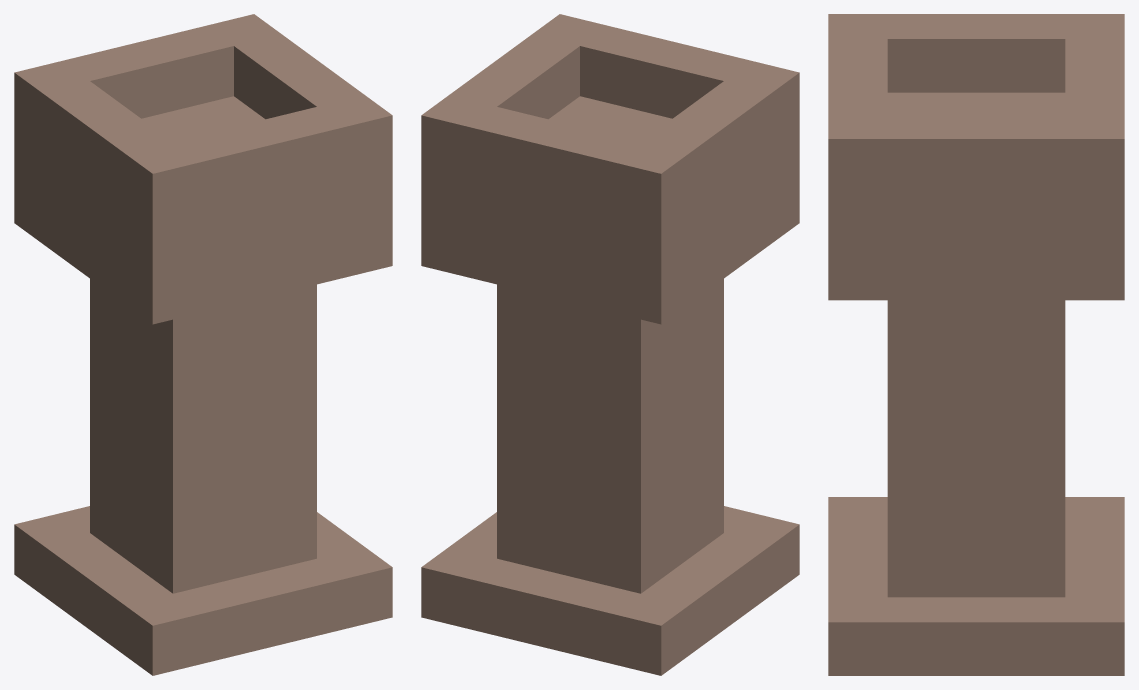
The model's file is ground_torch_a_a_unlit.obj.
3 views of the same model, side by side, from view 1: azimuth 30°, elevation 25°; view 2: azimuth 150°, elevation 25°; view 3: azimuth 270°, elevation 25° (orthographic). The views are drawn at different scales.
Size of the model in its own units: 0.5 by 1 by 0.5.
1 material, 1 textured.
